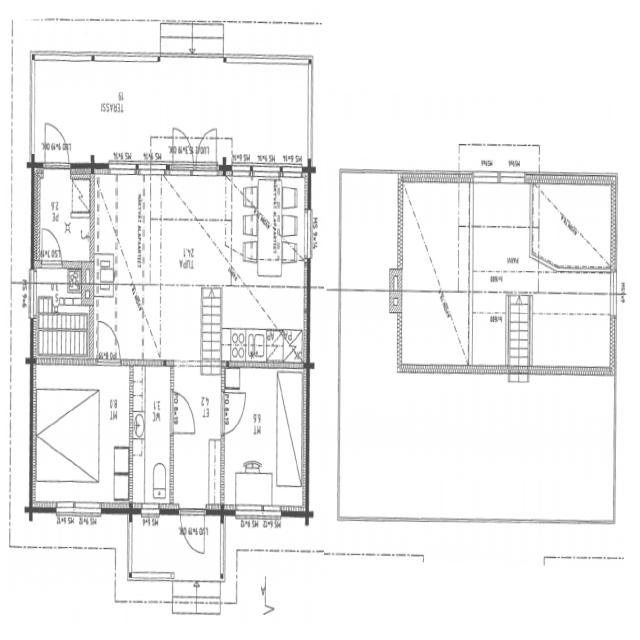door: (34, 162, 92, 262), (178, 503, 207, 558), (42, 116, 71, 171), (192, 124, 220, 176), (94, 312, 122, 363), (170, 387, 198, 437), (220, 386, 248, 436), (169, 122, 194, 174), (40, 224, 63, 265)
window: (26, 56, 40, 157), (233, 500, 283, 526), (57, 497, 104, 521), (302, 203, 314, 260), (107, 158, 140, 177), (250, 160, 282, 178), (28, 265, 38, 321), (138, 500, 162, 522), (229, 160, 255, 177), (279, 160, 304, 177), (509, 369, 530, 385)
zone: (31, 365, 134, 506), (222, 365, 307, 511), (151, 173, 230, 283), (399, 178, 466, 304), (219, 276, 310, 364), (227, 174, 308, 272), (132, 364, 174, 508), (92, 169, 148, 274), (33, 264, 92, 363), (34, 167, 92, 263), (471, 294, 508, 370)
